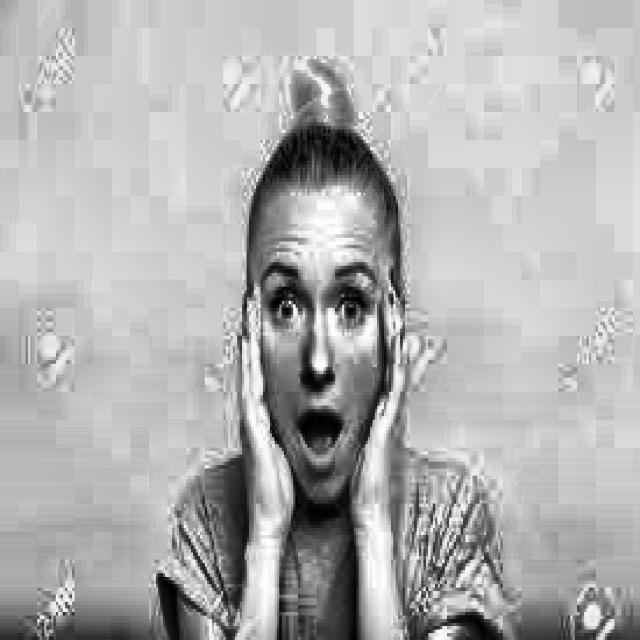surprise: (229, 75, 410, 511)
